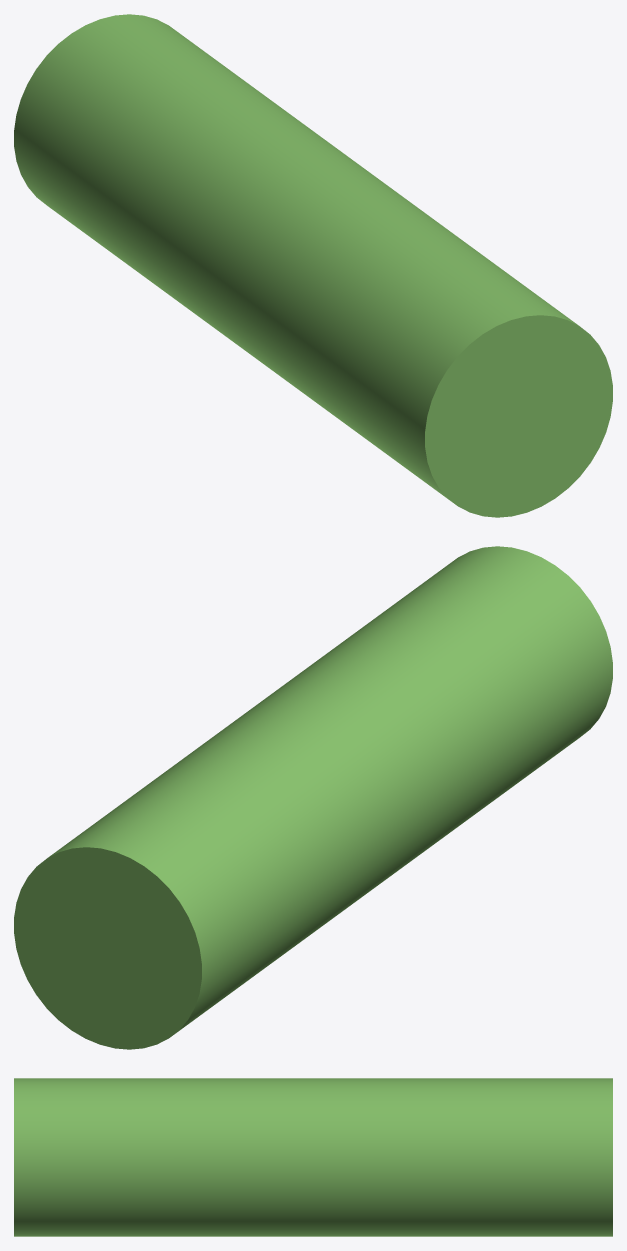
File: body35_visual.obj
3 renders of one model, top to bottom at view 1: azimuth 30°, elevation 25°; view 2: azimuth 150°, elevation 25°; view 3: azimuth 270°, elevation 25°, orthographic. The views are drawn at different scales.
Parts seen in each view (by area): view 1: Body35; view 2: Body35; view 3: Body35.
Part boxes in pixels (<box>): Body35: <box>14,14,612,517</box>; Body35: <box>14,546,612,1049</box>; Body35: <box>14,1078,612,1236</box>.
Size of the model in its own units: 1.8 by 1.8 by 6.8.
